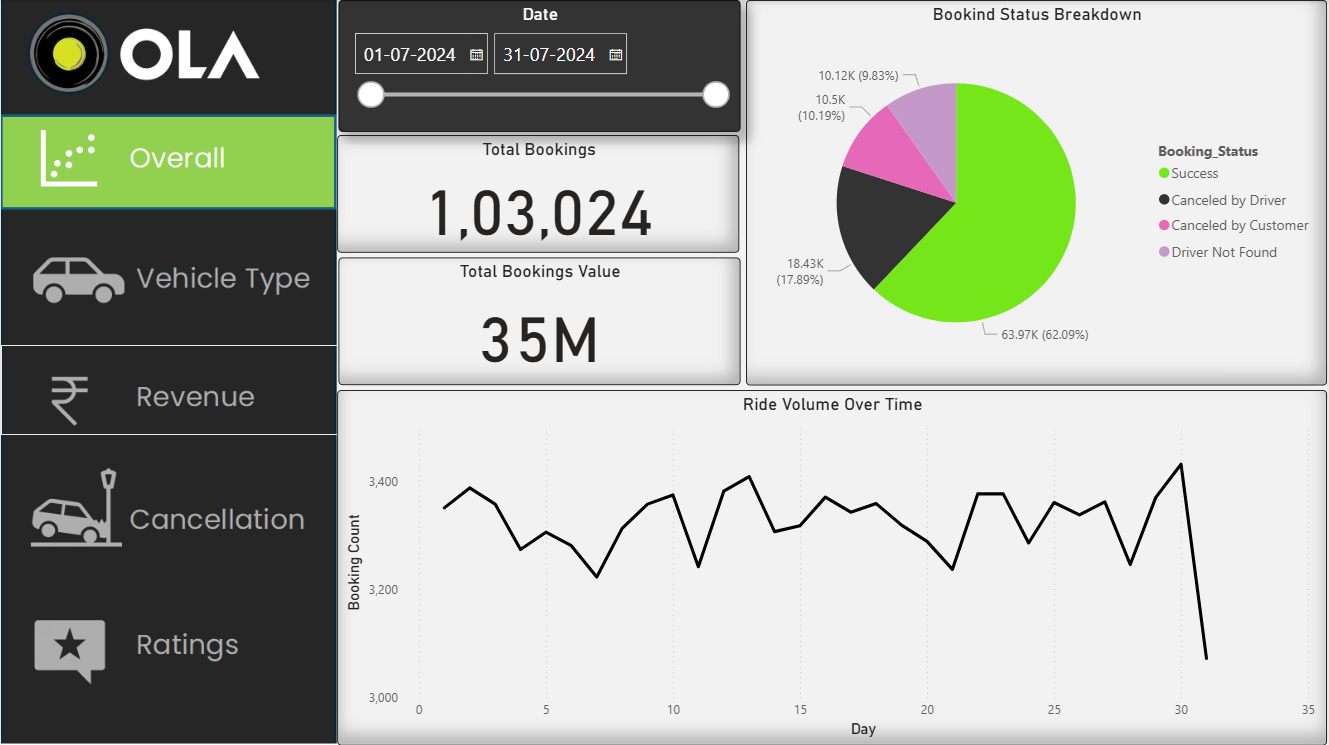

Layout of this report page (visuals, bound fields, positions):
{"tool":"powerbi","page":{"name":"Overall ","canvas":[1280,720],"ordinal":0},"visuals":[{"type":"actionButton","box":[0,227.1,325.7,87.1],"z":0},{"type":"actionButton","box":[0,332.9,325.7,87.1],"z":1000},{"type":"actionButton","box":[0,582.9,325.7,87.1],"z":2000},{"type":"actionButton","box":[0,448.6,325.7,87.1],"z":3000},{"type":"lineChart","title":"Ride  Volume Over Time","fields":{"Y":["CountNonNull(OLA_DataSet xlsx - July.Booking_ID)"],"Category":["OLA_DataSet xlsx - July.Date.Variation.Date Hierarchy.Day"]},"box":[325,376.7,955,343.3],"z":4000},{"type":"pieChart","title":"Bookind Status Breakdown","fields":{"Category":["OLA_DataSet xlsx - July.Booking_Status"],"Y":["CountNonNull(OLA_DataSet xlsx - July.Booking_ID)"]},"box":[719.2,0,560.8,372.3],"z":5000},{"type":"slicer","title":"Date","fields":{"Values":["OLA_DataSet xlsx - July.Date"]},"box":[325.5,0,388.2,127.3],"z":6000},{"type":"card","title":"Total Bookings","fields":{"Values":["Count(OLA_DataSet xlsx - July.Booking_ID)"]},"box":[325,130,388.3,113.3],"z":7000},{"type":"card","title":"Total Bookings Value","fields":{"Values":["Sum(OLA_DataSet xlsx - July.Booking_Value)"]},"box":[325.6,248.9,387.8,123.3],"z":8000}]}

Visuals, with their boxes in screenshot pixels (x1, y1, x2, y2), scaled from the page's 1280x720 canvas onto the 1329x745 screenshot:
actionButton: 0,235,338,325
actionButton: 0,344,338,435
actionButton: 0,603,338,693
actionButton: 0,464,338,554
"Ride  Volume Over Time" lineChart: 337,390,1328,744
"Bookind Status Breakdown" pieChart: 747,0,1328,385
"Date" slicer: 338,0,741,132
"Total Bookings" card: 337,135,741,252
"Total Bookings Value" card: 338,258,741,385
